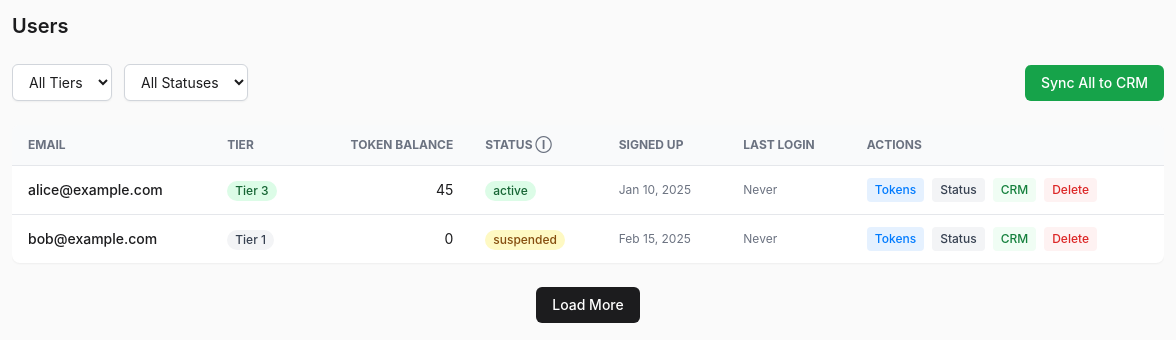
Scenario: AdminUsersPage › deleteUser removes user on confirm
expect the text "alice@example.com" is shown: met, box [12,166,211,214]
Click the button "Delete" in the row of "alice@example.com".
click(1071, 190)  # box [1044,178,1097,202]
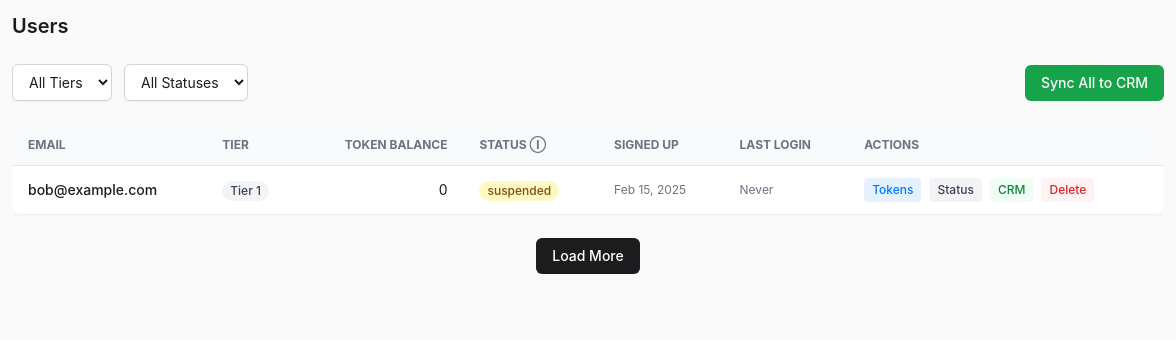
expect the text "bob@example.com" is shown: met, box [12,166,206,214]
expect the text "alice@example.com" is gone: met
